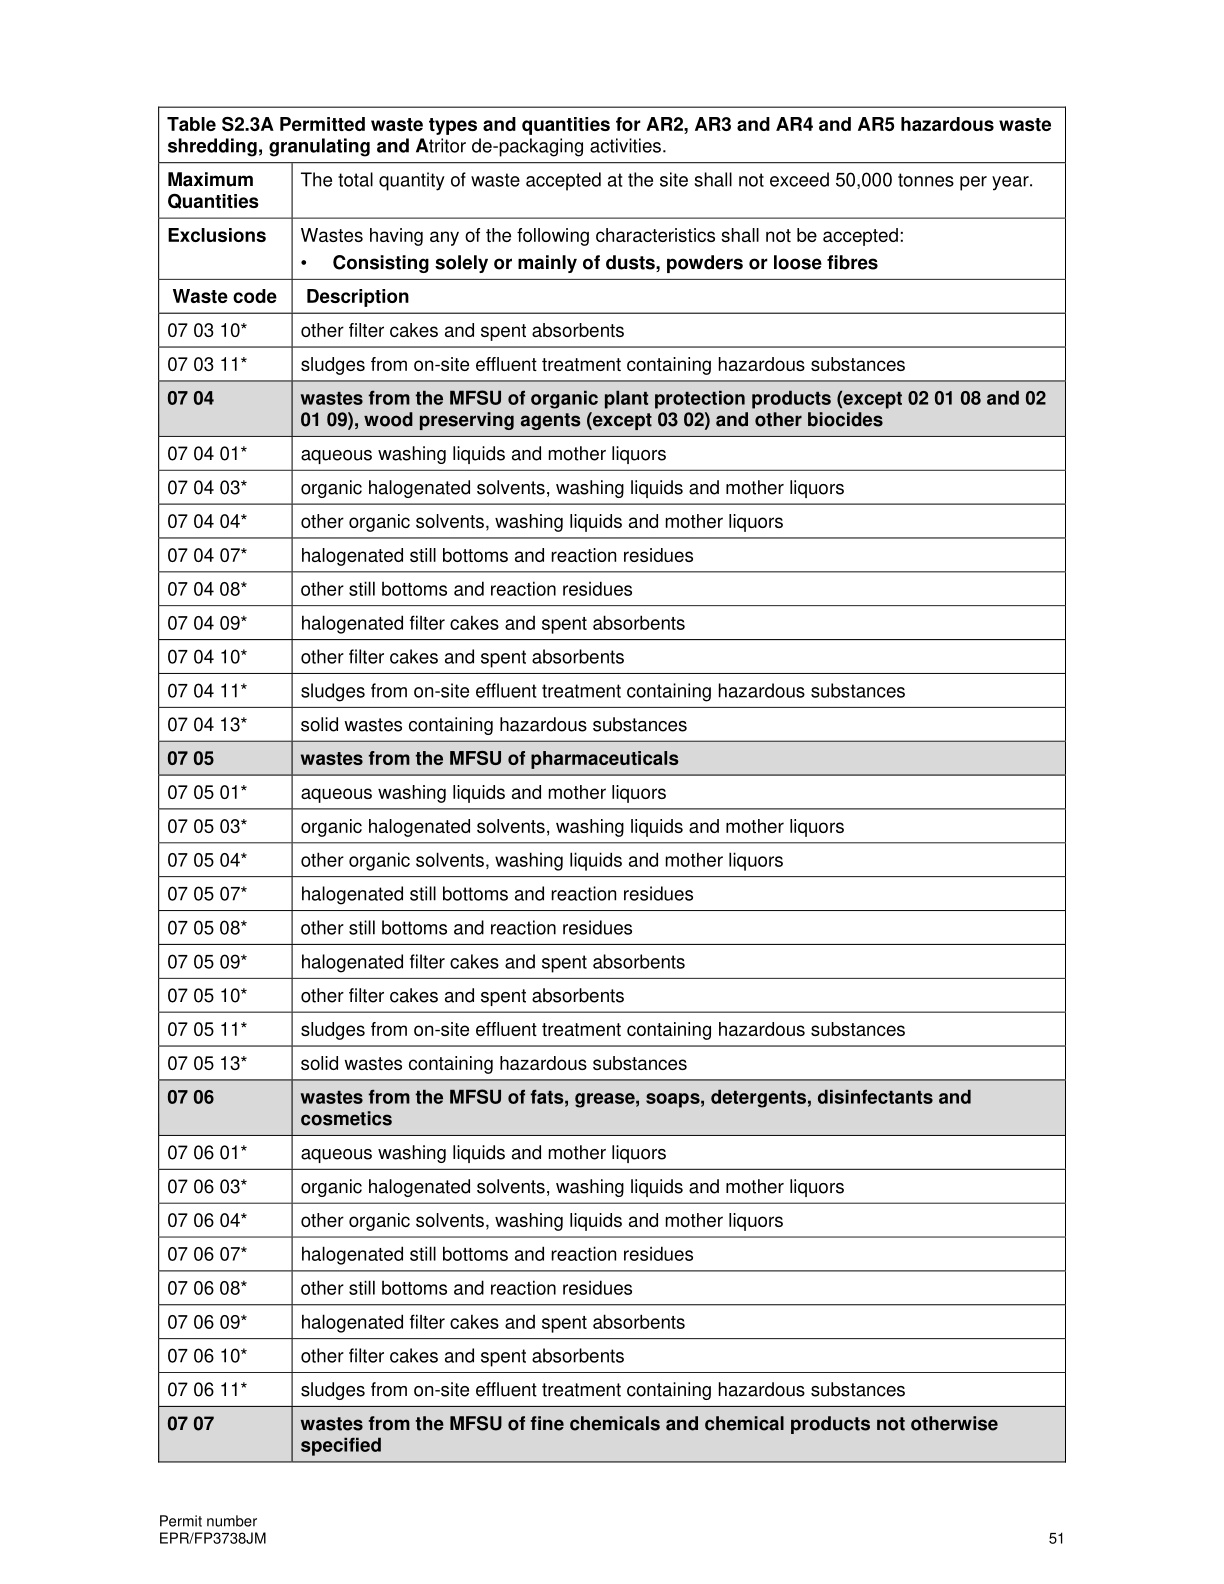merged_cells: (156, 104, 1067, 1464)
